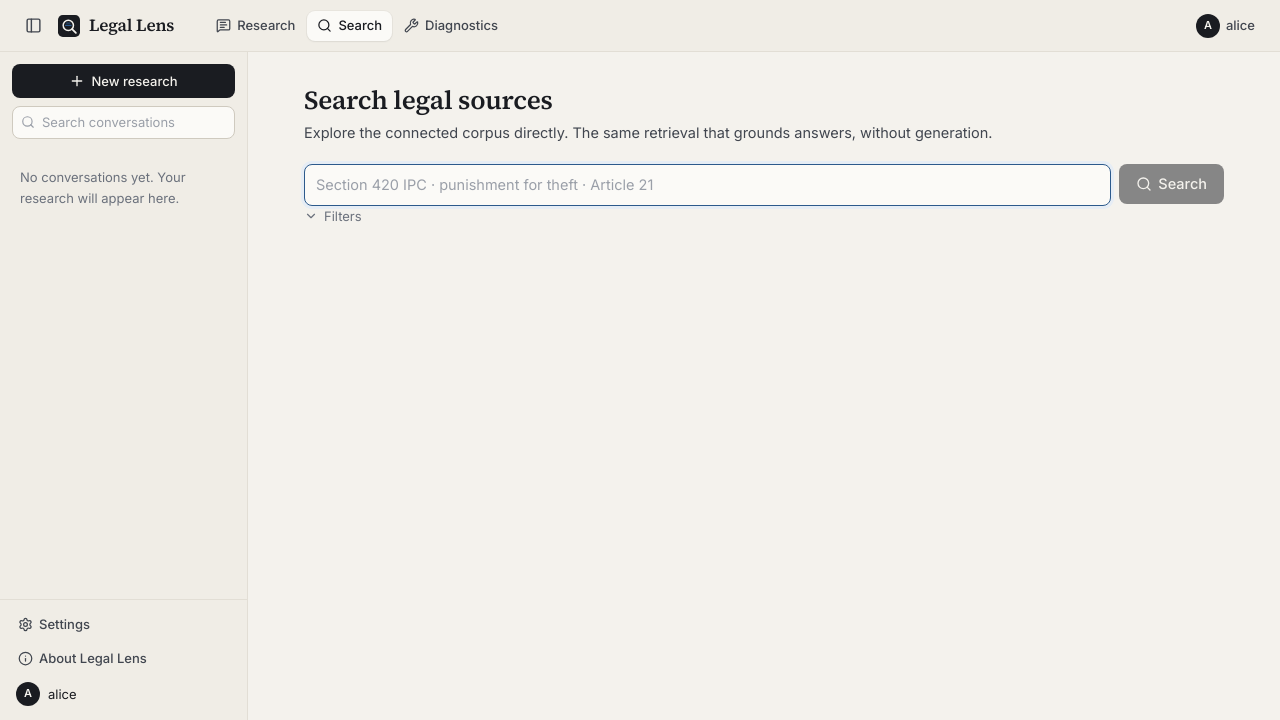
Test: search explorer › shows an empty state and a degraded state truthfully
Type "nothing" into the field with test id "search-input" at [708, 185], box [304,164,1111,206]
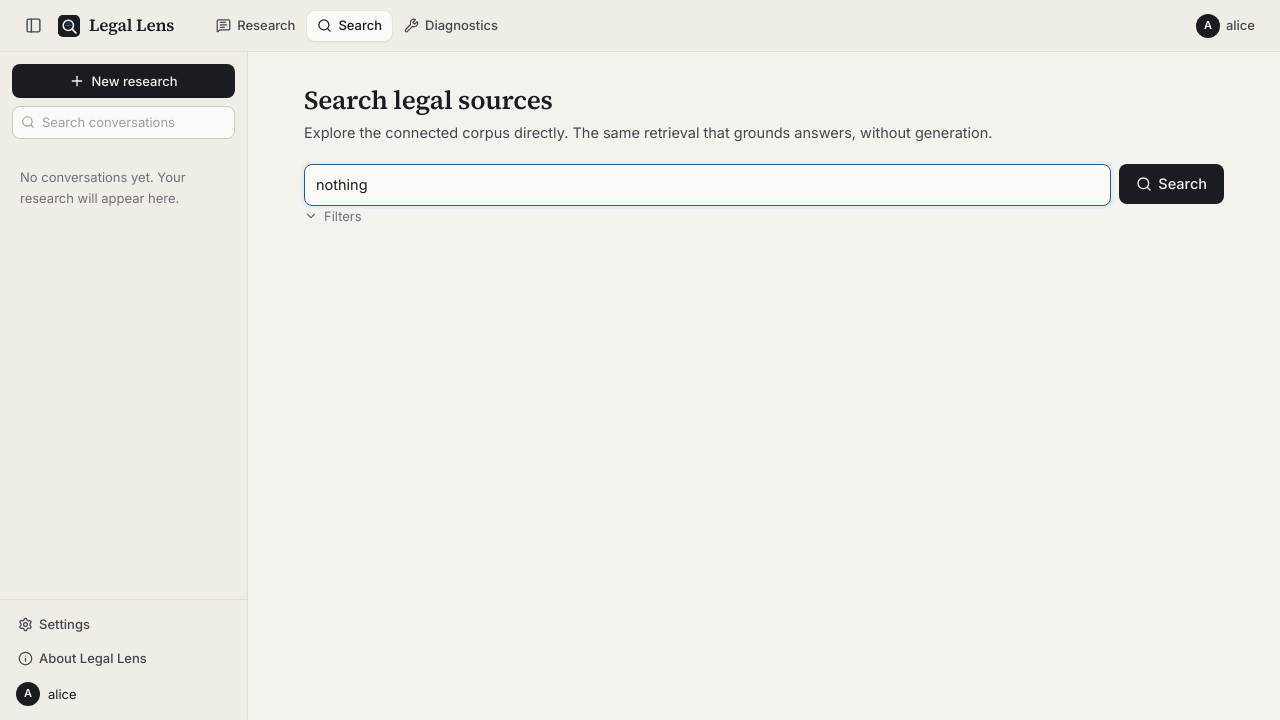
Press Enter
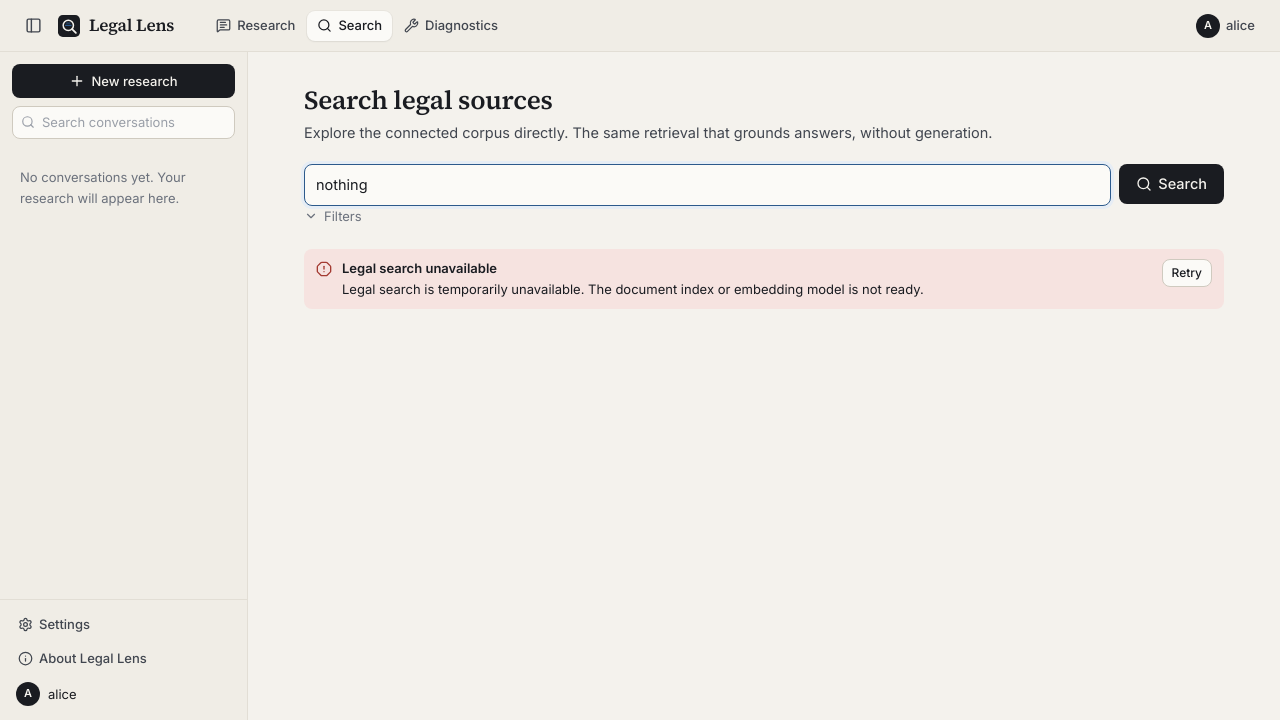
Expected: the message shows "Legal search is temporarily unavailable", [342,281,924,297]
Click the button "Retry" at [1187, 273], box [1162,259,1212,287]
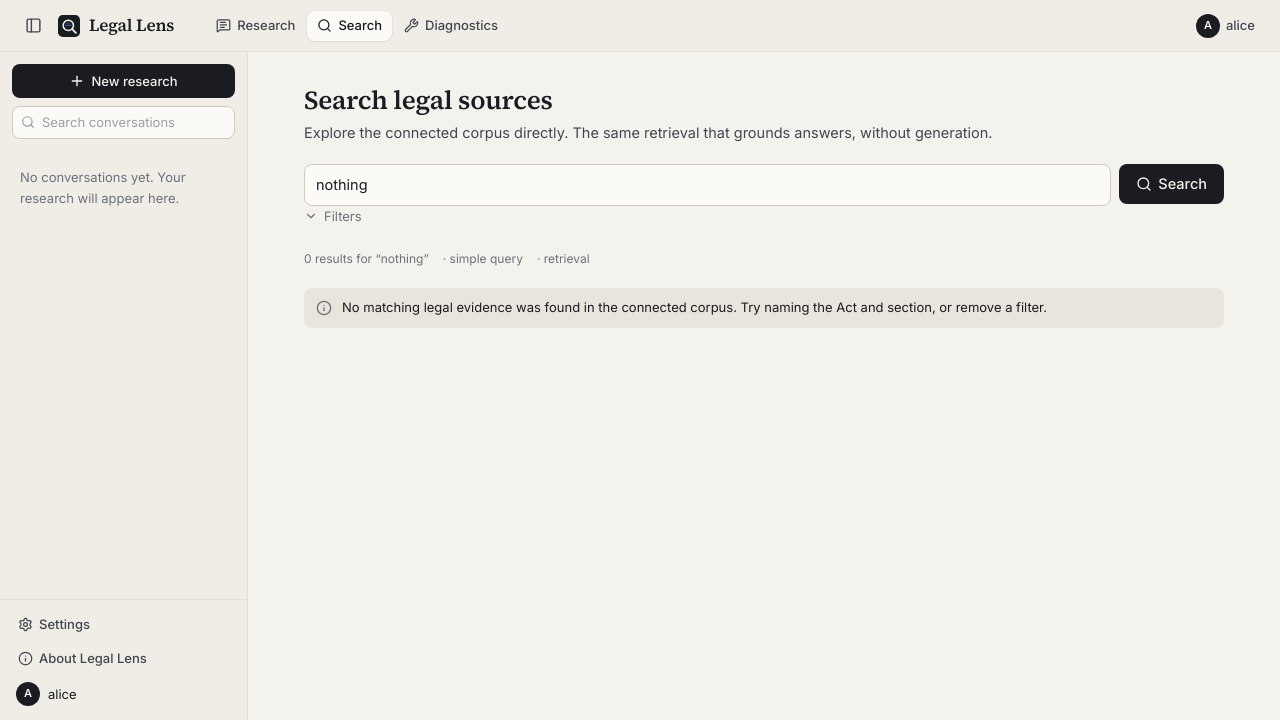
Expected: the text "No matching legal evidence was found" is shown, [342,300,1047,316]
